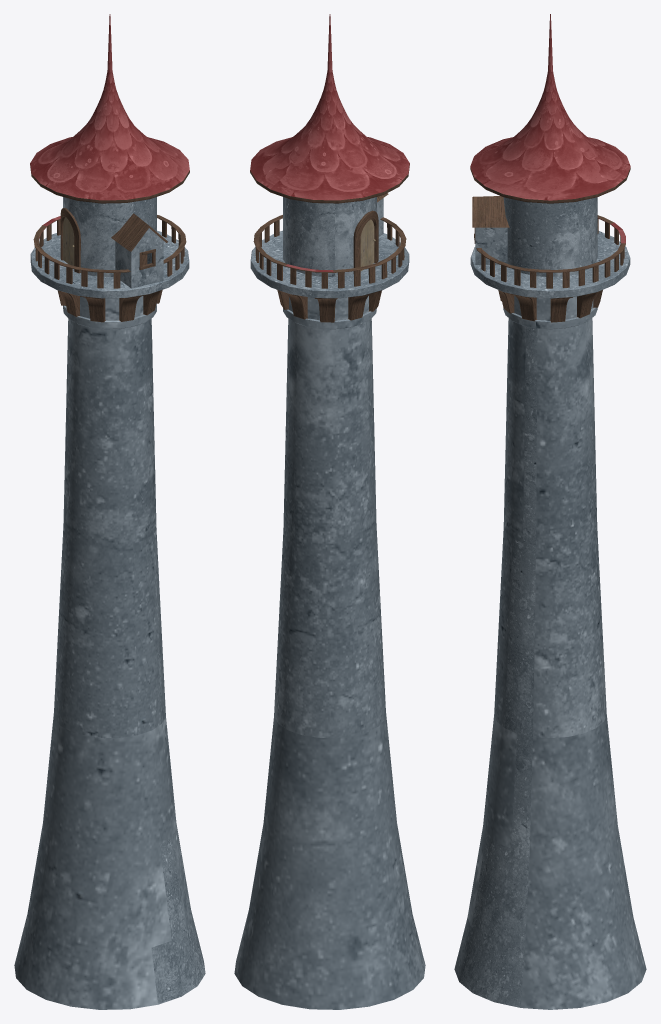
The model's file is fairy_tower.obj.
3 views of the same model, side by side, from view 1: azimuth 30°, elevation 25°; view 2: azimuth 150°, elevation 25°; view 3: azimuth 270°, elevation 25° (orthographic).
Visible parts, largest first — view 1: FairyTower; view 2: FairyTower; view 3: FairyTower.
Part boxes in pixels (bbox=[...]): FairyTower: bbox=[14, 14, 205, 1009]; FairyTower: bbox=[234, 14, 425, 1009]; FairyTower: bbox=[454, 14, 646, 1009].
Bounding box in the file's own units: 6.27 × 34.4 × 6.27.
Materials: 1 (1 with a texture image).
